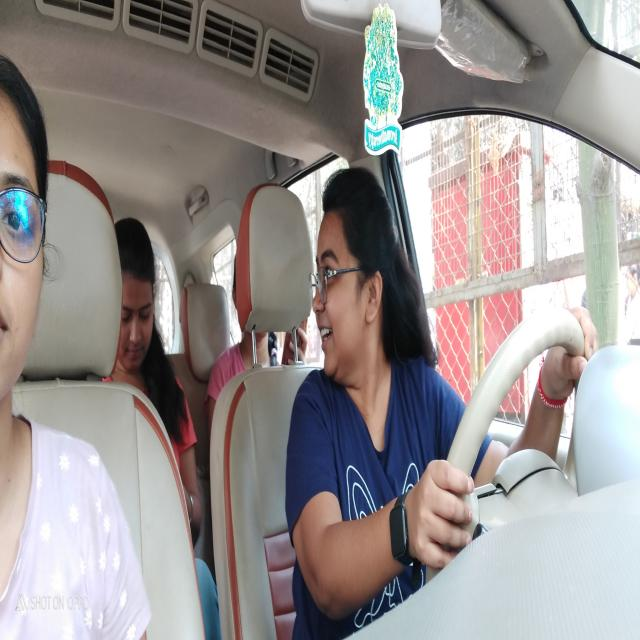LeftRight: (307, 162, 390, 398)
person: (0, 54, 49, 411), (118, 218, 158, 387)
